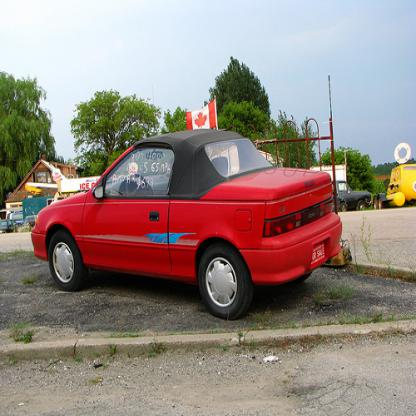Vehicle: (30, 128, 345, 326)
